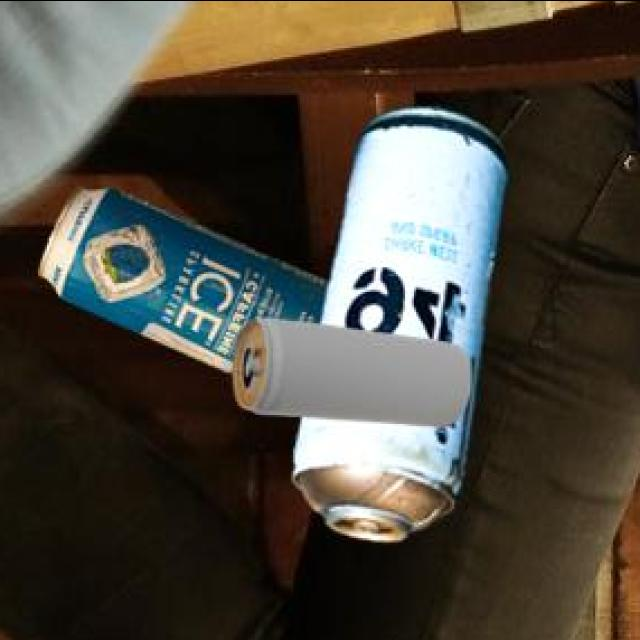logam: (297, 109, 511, 543), (44, 189, 332, 375), (236, 321, 473, 429)
